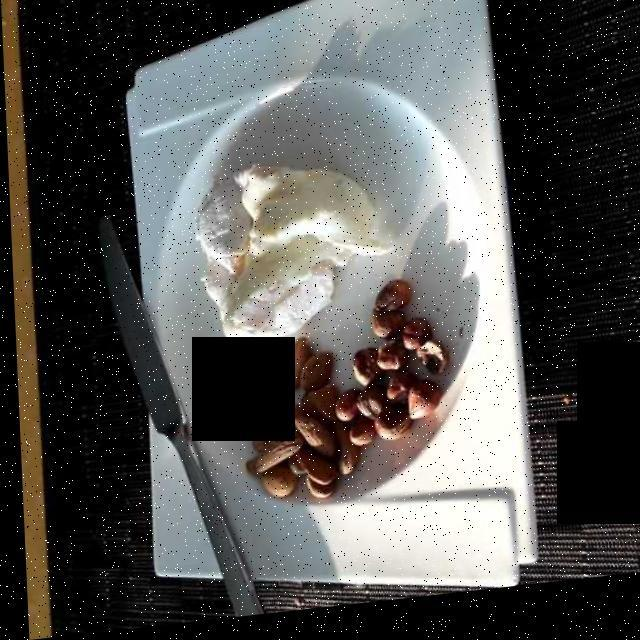almonds: (246, 324, 337, 517)
hazelnut: (331, 255, 450, 476)
yogurt: (196, 168, 399, 338)
